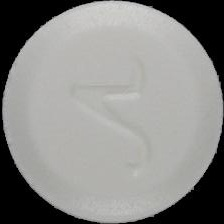66336-819: (0, 0, 224, 224)
